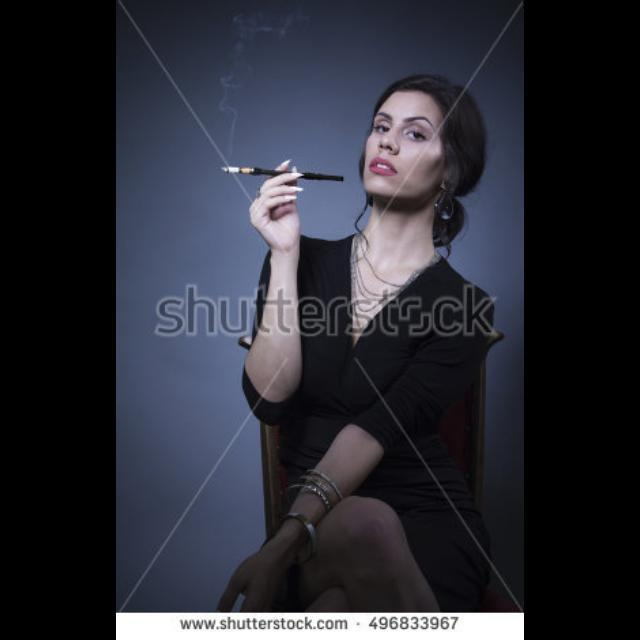rokok: (223, 163, 249, 175)
